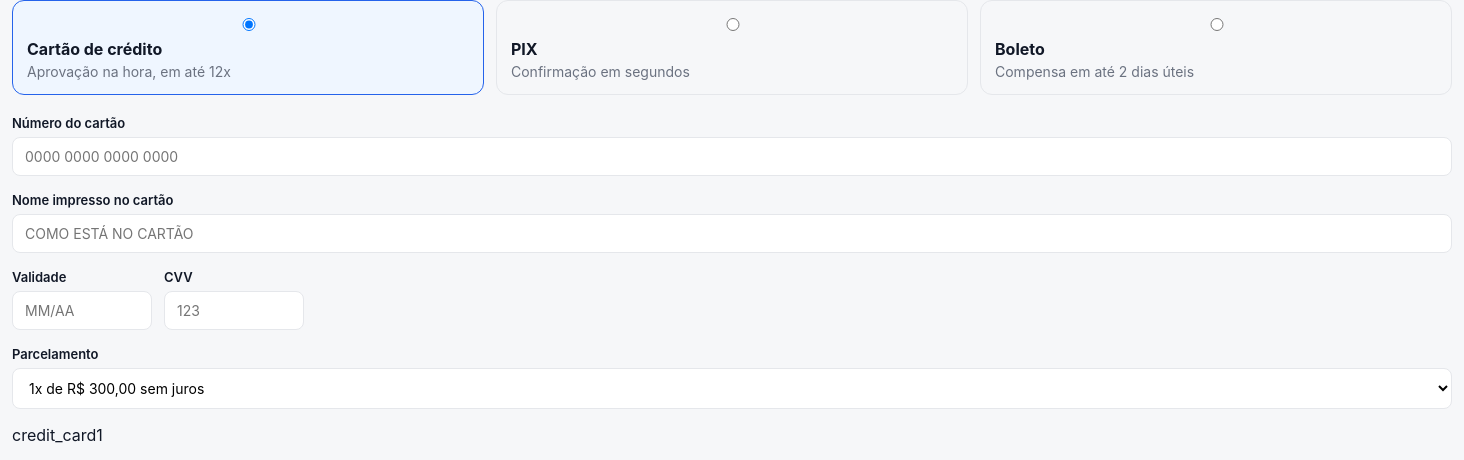
Test: PaymentForm › mostra os campos de cartão e esconde ao trocar para PIX
Expected: the field labelled "Número do cartão" is shown, left=12, top=137, right=1452, bottom=176
Click the radio button labelled "PIX Confirmação em segundos" at [733, 24], box left=516, top=18, right=950, bottom=31
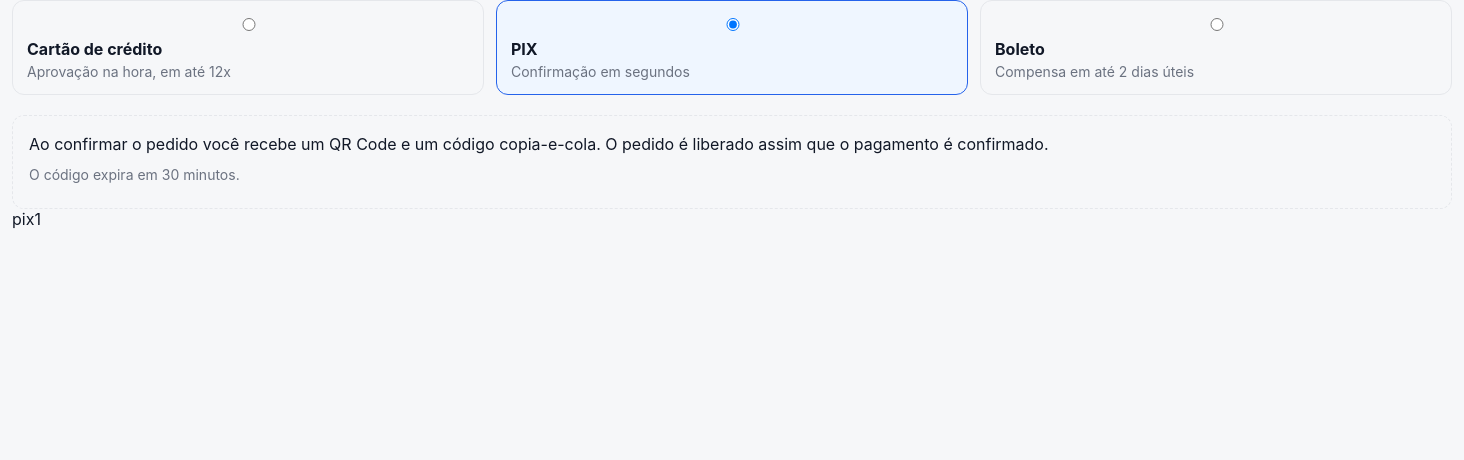
Expected: the text with test id "method" reads "pix", left=12, top=209, right=34, bottom=229
Expected: the label labelled "Número do cartão" is gone
Expected: the text "O código expira em 30 minutos." is shown, left=29, top=166, right=240, bottom=183
